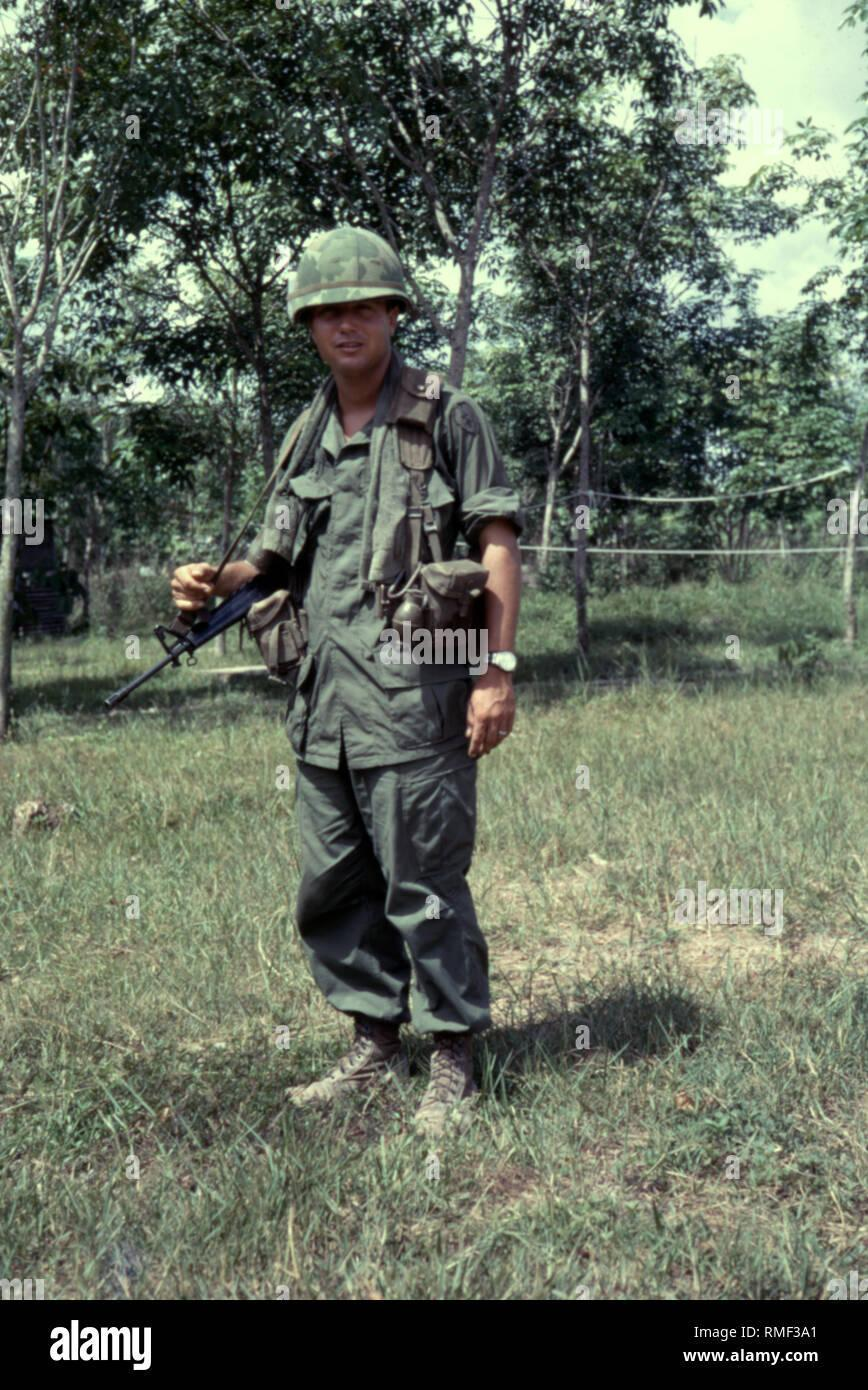Grenade: (389, 582, 428, 646)
Gun: (106, 549, 299, 714)
